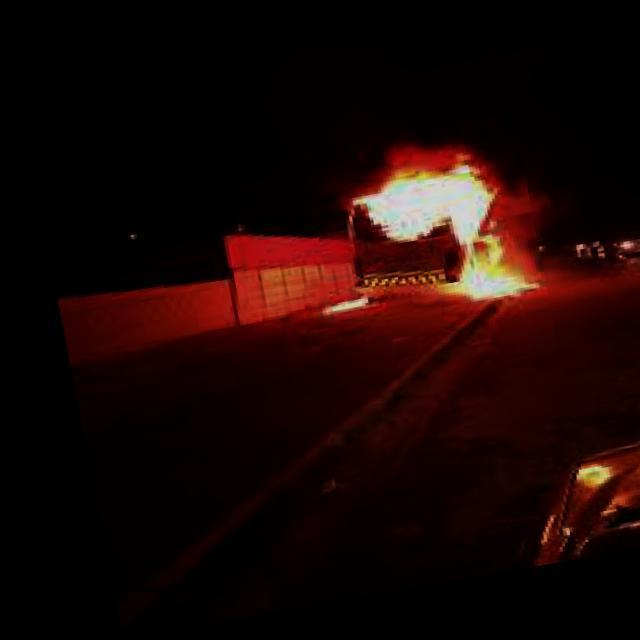Fire: (296, 143, 536, 344)
